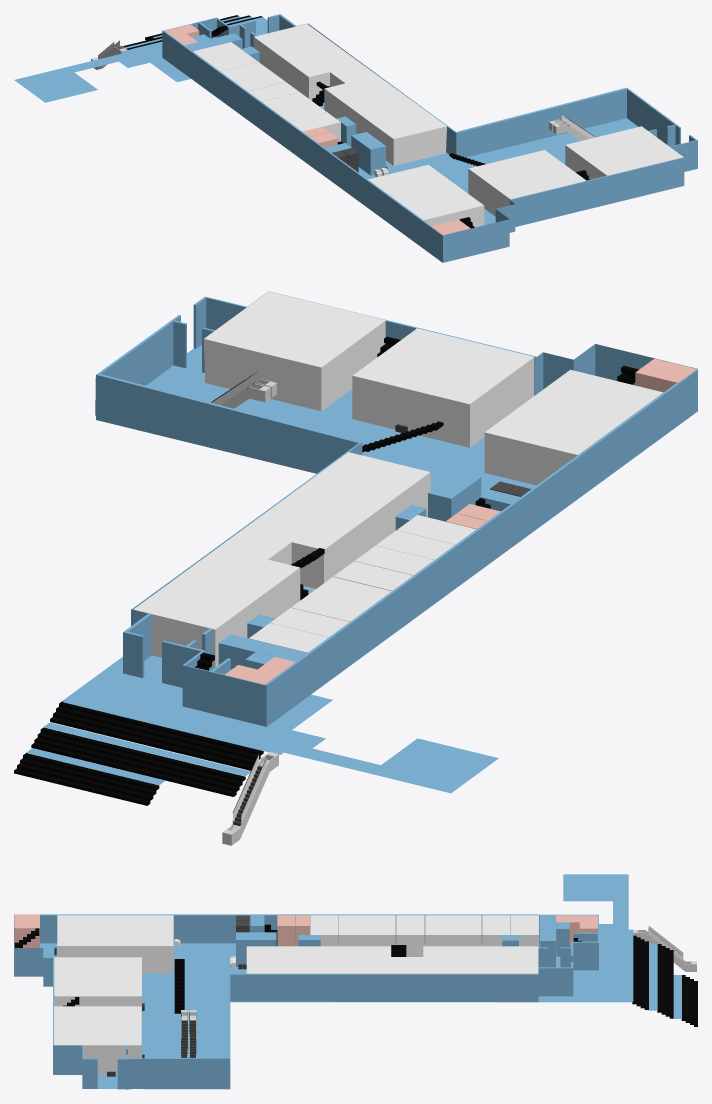
3 views of the same model, one above another, from view 1: azimuth 30°, elevation 25°; view 2: azimuth 150°, elevation 25°; view 3: azimuth 270°, elevation 25° (orthographic). The views are drawn at different scales.
Parts seen in each view (by area): view 1: エレベーター1_3, 情報コアゾーン, 10102, 10103, 10101, ゼミ101A, ゼミ101E, ゼミ101G, ゼミ101D, ゼミ101B, ゼミ101C, ゼミ101H (+3 smaller); view 2: エレベーター1_3, 情報コアゾーン, 10102, 10101, 10103, 階段1_8, 階段1_7, 階段1_9, エスカレーター1_3, 男子トイレ1_1, ゼミ101D, ゼミ101F (+8 smaller); view 3: エレベーター1_3, 情報コアゾーン, 10103, 10101, 10102, 階段1_8, 階段1_7, ゼミ101D, ゼミ101C, ゼミ101E, ゼミ101F, ゼミ101B (+11 smaller).
Boxes of the visible parts, x1,y1,x2,y2 form: エレベーター1_3: [14, 14, 697, 262]; 情報コアゾーン: [253, 24, 446, 165]; 10102: [468, 150, 586, 216]; 10103: [368, 164, 484, 227]; 10101: [565, 126, 683, 179]; ゼミ101A: [289, 112, 340, 141]; ゼミ101E: [234, 72, 285, 91]; ゼミ101G: [207, 52, 257, 71]; ゼミ101D: [248, 82, 299, 101]; ゼミ101B: [275, 102, 326, 121]; ゼミ101C: [262, 92, 313, 111]; ゼミ101H: [193, 42, 244, 61]; エレベーター1_3: [26, 291, 697, 793]; 情報コアゾーン: [133, 452, 430, 668]; 10102: [352, 328, 534, 447]; 10101: [204, 291, 386, 411]; 10103: [484, 369, 663, 485]; 階段1_8: [31, 727, 245, 796]; 階段1_7: [50, 701, 263, 770]; 階段1_9: [14, 753, 159, 805]; エスカレーター1_3: [222, 752, 278, 845]; 男子トイレ1_1: [635, 358, 697, 392]; ゼミ101D: [333, 561, 412, 591]; ゼミ101F: [291, 592, 370, 621]; エレベーター1_3: [14, 874, 681, 1089]; 情報コアゾーン: [246, 946, 538, 974]; 10103: [57, 915, 173, 973]; 10101: [54, 1006, 141, 1074]; 10102: [54, 957, 141, 1025]; 階段1_8: [657, 944, 673, 1018]; 階段1_7: [632, 935, 648, 1009]; ゼミ101D: [396, 915, 424, 956]; ゼミ101C: [367, 915, 395, 956]; ゼミ101E: [425, 915, 453, 946]; ゼミ101F: [453, 915, 481, 946]; ゼミ101B: [339, 915, 367, 946].
Bounding box in the file's own units: 2.75 × 0.4417 × 3.7.
